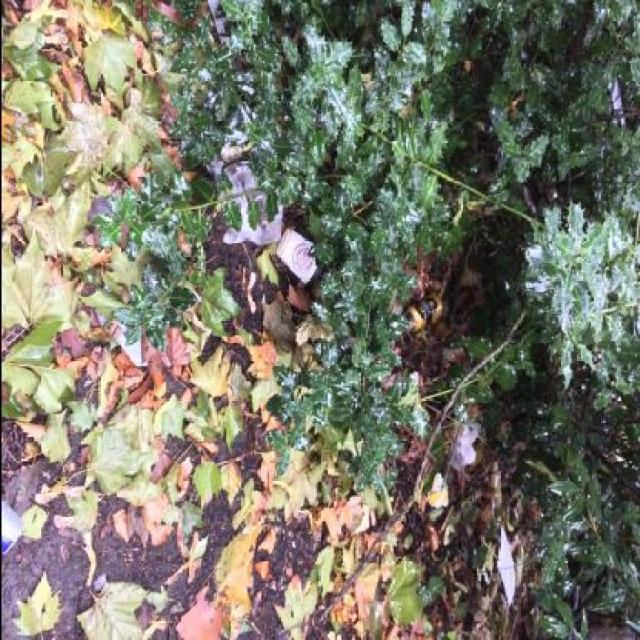cardboard: (274, 228, 323, 287)
metal: (400, 295, 440, 333)
